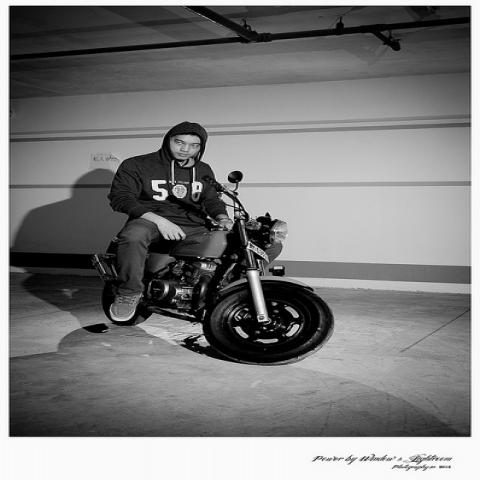motorcycle: (93, 171, 334, 364)
